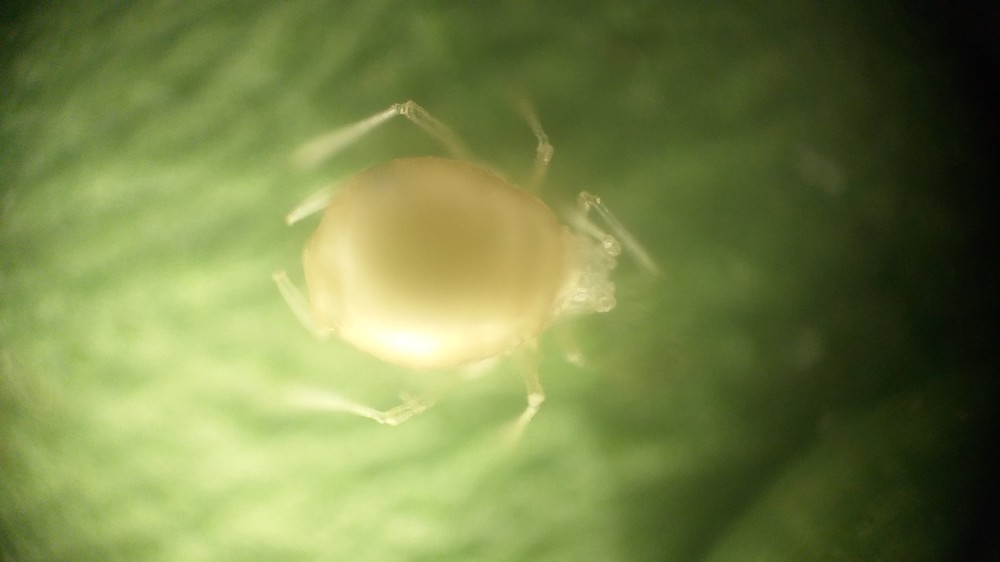Pulgon: (240, 56, 681, 488)
